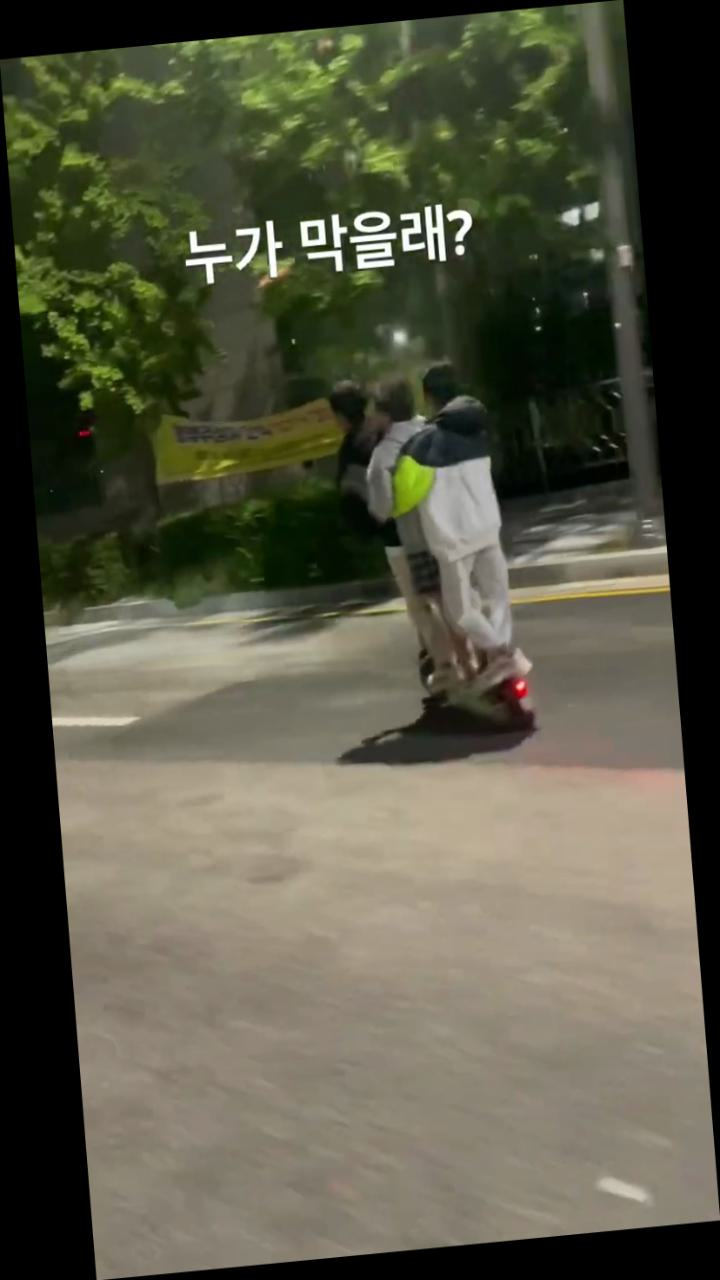multiple: (318, 351, 545, 752)
